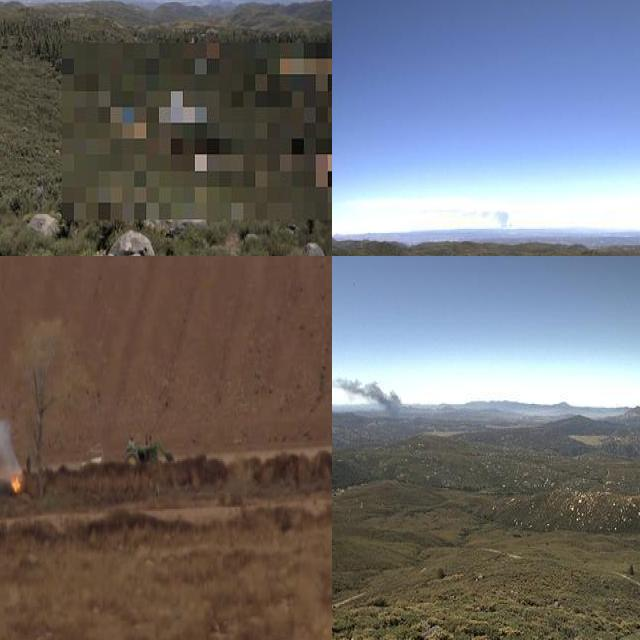fire: (0, 439, 32, 510)
smoke: (332, 372, 407, 428), (472, 205, 510, 232)
